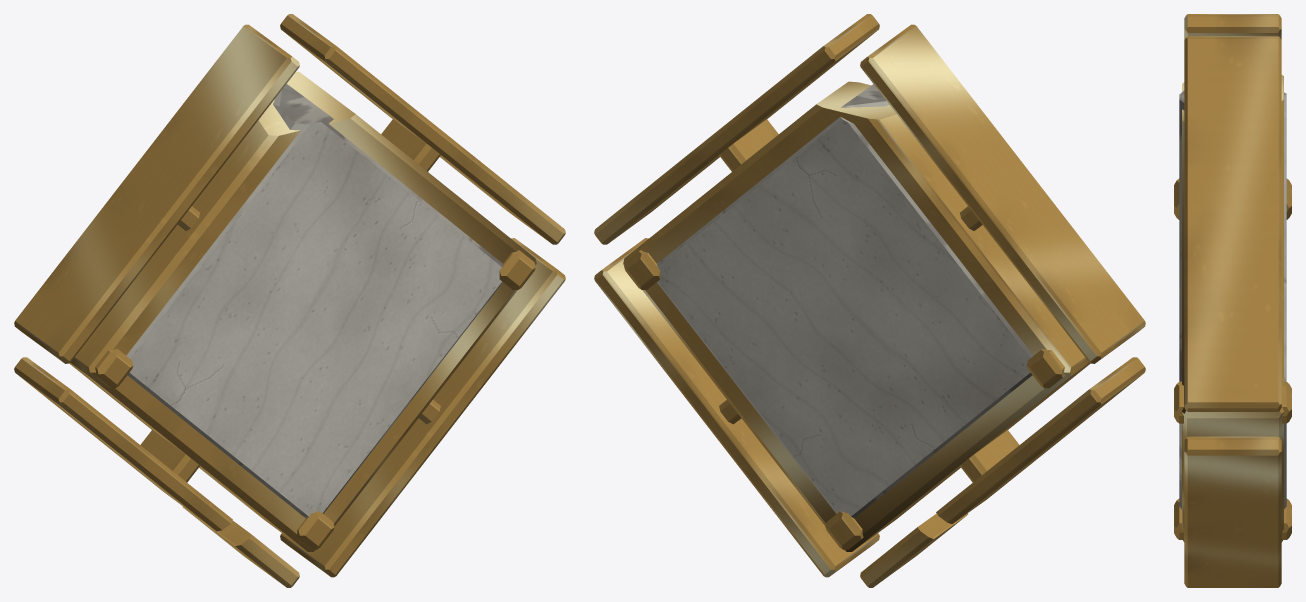
Rendered from core.obj.
3 views of the same model, side by side, from view 1: azimuth 30°, elevation 25°; view 2: azimuth 150°, elevation 25°; view 3: azimuth 270°, elevation 25° (orthographic). The views are drawn at different scales.
Parts seen in each view (by area): view 1: Ivory_seal, Solid_gold_binding, Outer_segmented_setting_top, Outer_segmented_setting_bottom, Outer_segmented_setting_left, Outer_segmented_setting_right, Horizontal_bridge_-1, Horizontal_bridge_1, Corner_clasp_-1_1, Corner_clasp_1_-1, Corner_clasp_-1_-1; view 2: Ivory_seal, Solid_gold_binding, Outer_segmented_setting_top, Outer_segmented_setting_bottom, Outer_segmented_setting_left, Outer_segmented_setting_right, Horizontal_bridge_-1, Horizontal_bridge_1, Corner_clasp_-1_1, Corner_clasp_1_-1, Corner_clasp_-1_-1; view 3: Outer_segmented_setting_right, Outer_segmented_setting_bottom, Solid_gold_binding, Ivory_seal, Outer_segmented_setting_top, Corner_clasp_1_-1, Corner_clasp_-1_-1, Corner_clasp_-1_1.
Part boxes in pixels (left/top/right/bottom): Ivory_seal: left=126, top=84, right=502, bottom=517; Solid_gold_binding: left=69, top=71, right=536, bottom=551; Outer_segmented_setting_top: left=14, top=24, right=299, bottom=363; Outer_segmented_setting_bottom: left=280, top=238, right=565, bottom=577; Outer_segmented_setting_left: left=14, top=357, right=299, bottom=587; Outer_segmented_setting_right: left=280, top=14, right=565, bottom=244; Horizontal_bridge_-1: left=140, top=430, right=199, bottom=482; Horizontal_bridge_1: left=381, top=119, right=440, bottom=171; Corner_clasp_-1_1: left=95, top=349, right=133, bottom=388; Corner_clasp_1_-1: left=499, top=250, right=535, bottom=289; Corner_clasp_-1_-1: left=296, top=511, right=334, bottom=549; Ivory_seal: left=657, top=84, right=1033, bottom=517; Solid_gold_binding: left=623, top=81, right=1090, bottom=551; Outer_segmented_setting_top: left=860, top=24, right=1145, bottom=363; Outer_segmented_setting_bottom: left=594, top=238, right=879, bottom=577; Outer_segmented_setting_left: left=860, top=357, right=1145, bottom=587; Outer_segmented_setting_right: left=594, top=14, right=879, bottom=244; Horizontal_bridge_-1: left=960, top=430, right=1019, bottom=482; Horizontal_bridge_1: left=719, top=119, right=778, bottom=171; Corner_clasp_-1_1: left=1026, top=349, right=1064, bottom=388; Corner_clasp_1_-1: left=624, top=250, right=660, bottom=289; Corner_clasp_-1_-1: left=825, top=511, right=863, bottom=549; Outer_segmented_setting_right: left=1184, top=36, right=1281, bottom=411; Outer_segmented_setting_bottom: left=1184, top=436, right=1281, bottom=587; Solid_gold_binding: left=1182, top=75, right=1283, bottom=542; Ivory_seal: left=1179, top=90, right=1286, bottom=509; Outer_segmented_setting_top: left=1184, top=14, right=1281, bottom=39; Corner_clasp_1_-1: left=1174, top=381, right=1291, bottom=423; Corner_clasp_-1_-1: left=1174, top=498, right=1291, bottom=539; Corner_clasp_-1_1: left=1174, top=178, right=1291, bottom=219.
Bounding box in the file's own units: 0.5605 × 0.5605 × 0.1089.
